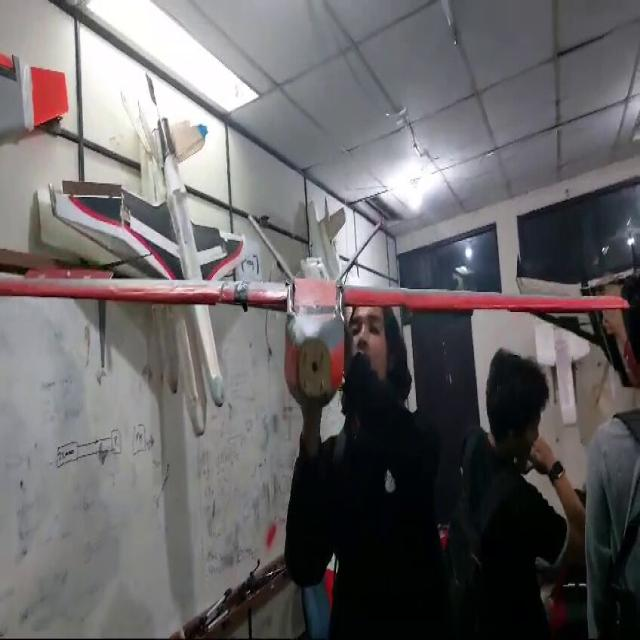plane: (0, 71, 634, 434)
